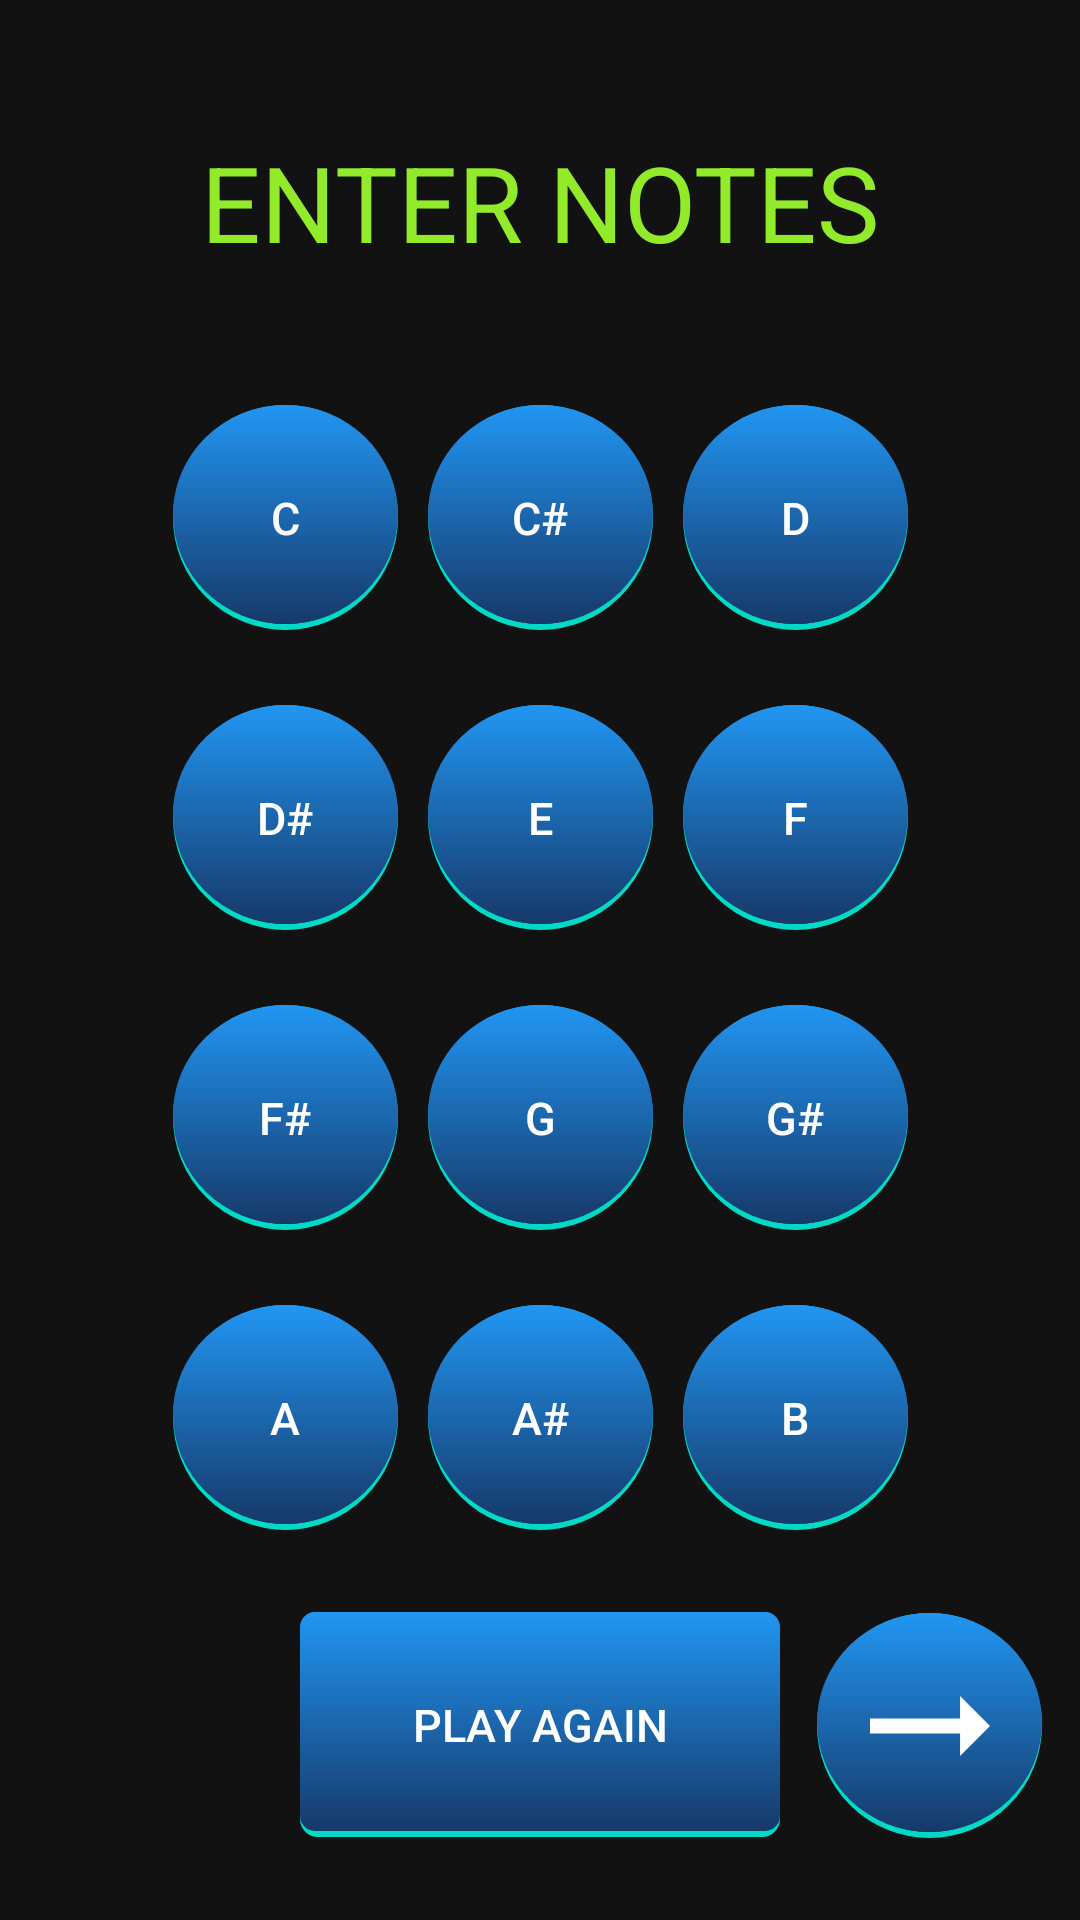

Icon bounding boxes for this 1080px x 1920px phone screenshot, format (x1, y1, x2, y2):
Next: (817, 1613, 1042, 1838)
